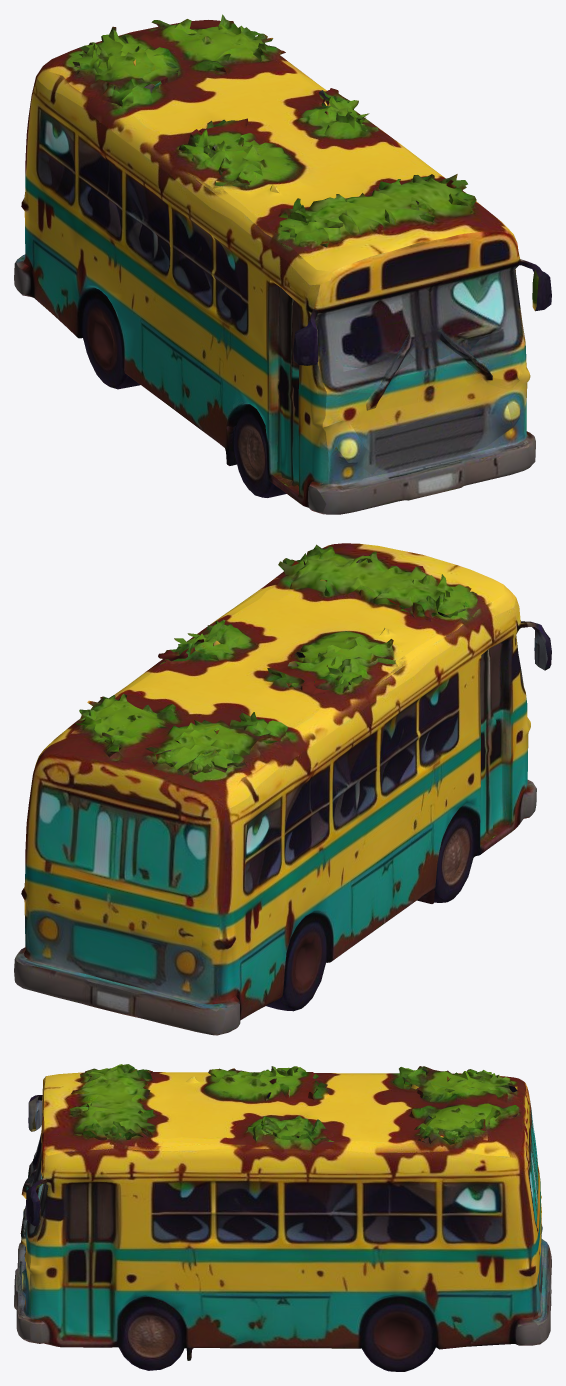
File: ruin_bus.glb
3 renders of one model, top to bottom at view 1: azimuth 30°, elevation 25°; view 2: azimuth 150°, elevation 25°; view 3: azimuth 270°, elevation 25°, orthographic. The views are drawn at different scales.
Parts seen in each view (by area): view 1: ruin_bus; view 2: ruin_bus; view 3: ruin_bus.
Boxes of the visible parts, x1,y1,x2,y2 form: ruin_bus: (14, 14, 551, 514); ruin_bus: (14, 543, 551, 1035); ruin_bus: (14, 1064, 551, 1371).
Bounding box in the file's own units: 0.4497 × 0.4984 × 1.
Materials: 1 (1 with a texture image).
